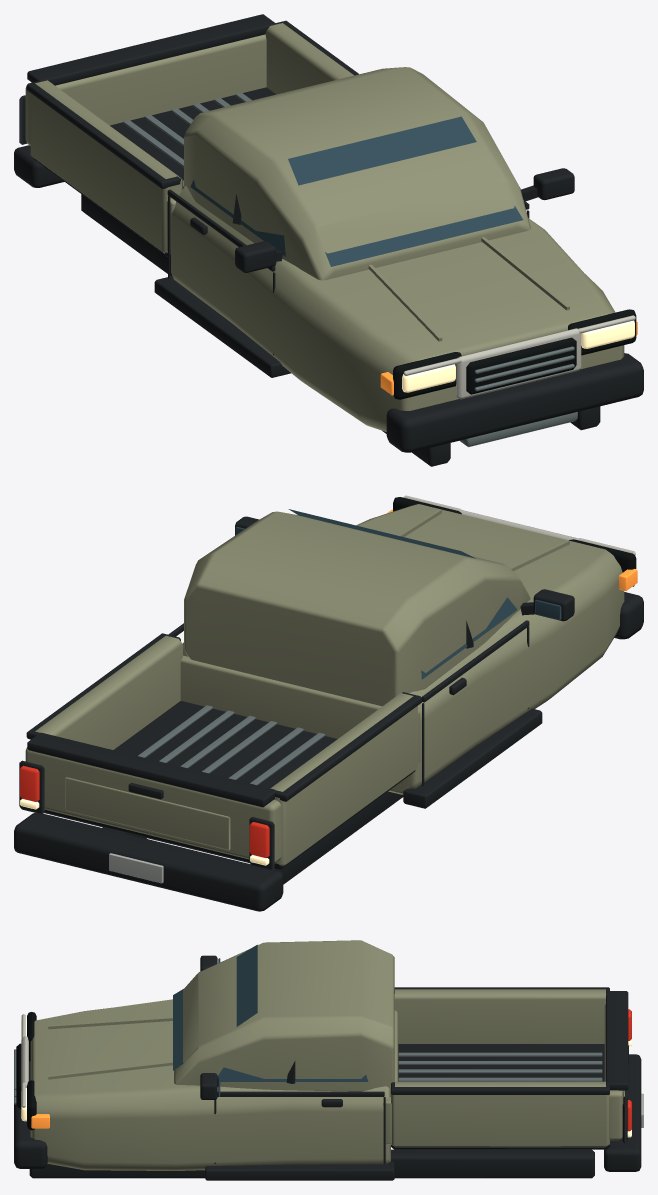
The model's file is hilux.glb.
3 views of the same model, one above another, from view 1: azimuth 30°, elevation 25°; view 2: azimuth 150°, elevation 25°; view 3: azimuth 270°, elevation 25° (orthographic). The views are drawn at different scales.
Visible parts, largest first — view 1: hilux_Paint, hilux_Polymer, hilux_TintedGlass, hilux_Grille, hilux_Steel, hilux_Brightwork, hilux_Headlamps; view 2: hilux_Paint, hilux_Polymer, hilux_Steel, hilux_TintedGlass, hilux_TailLamps, hilux_Aluminium, hilux_Brightwork, hilux_Grille; view 3: hilux_Paint, hilux_Polymer, hilux_Steel, hilux_TintedGlass, hilux_Grille, hilux_Brightwork.
Part boxes in pixels (x1,y1,x2,y2): hilux_Paint: (25, 23, 624, 431); hilux_Polymer: (14, 14, 643, 466); hilux_TintedGlass: (190, 116, 523, 266); hilux_Grille: (393, 309, 636, 399); hilux_Steel: (123, 92, 577, 447); hilux_Brightwork: (403, 315, 635, 399); hilux_Headlamps: (402, 320, 634, 392); hilux_Paint: (25, 504, 624, 865); hilux_Polymer: (14, 516, 643, 911); hilux_Steel: (138, 705, 325, 785); hilux_TintedGlass: (235, 509, 561, 679); hilux_TailLamps: (20, 765, 269, 857); hilux_Aluminium: (109, 853, 163, 883); hilux_Brightwork: (403, 495, 635, 554); hilux_Grille: (393, 497, 636, 586); hilux_Paint: (30, 940, 624, 1170); hilux_Polymer: (14, 955, 641, 1180); hilux_Steel: (14, 1049, 602, 1104); hilux_TintedGlass: (173, 944, 368, 1096); hilux_Grille: (16, 1012, 36, 1130); hilux_Brightwork: (21, 1014, 28, 1107).
Bounding box in the file's own units: 2.48 × 1.49 × 5.06.
